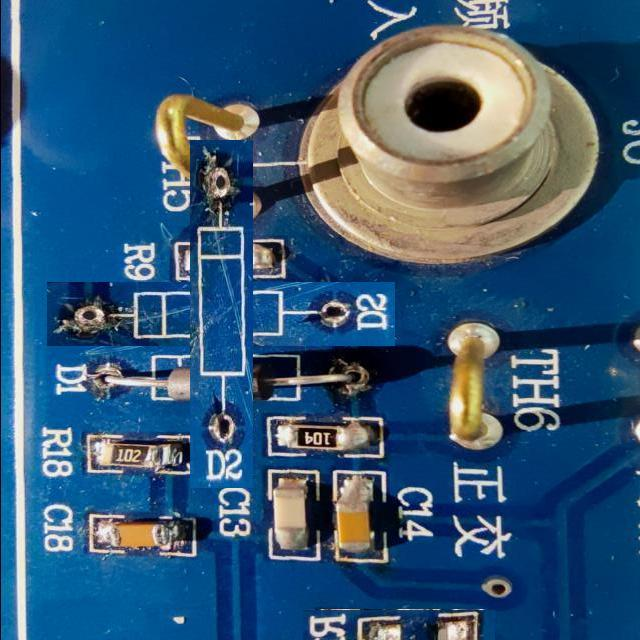miss_welding: (118, 211, 324, 417), (302, 609, 495, 640)
